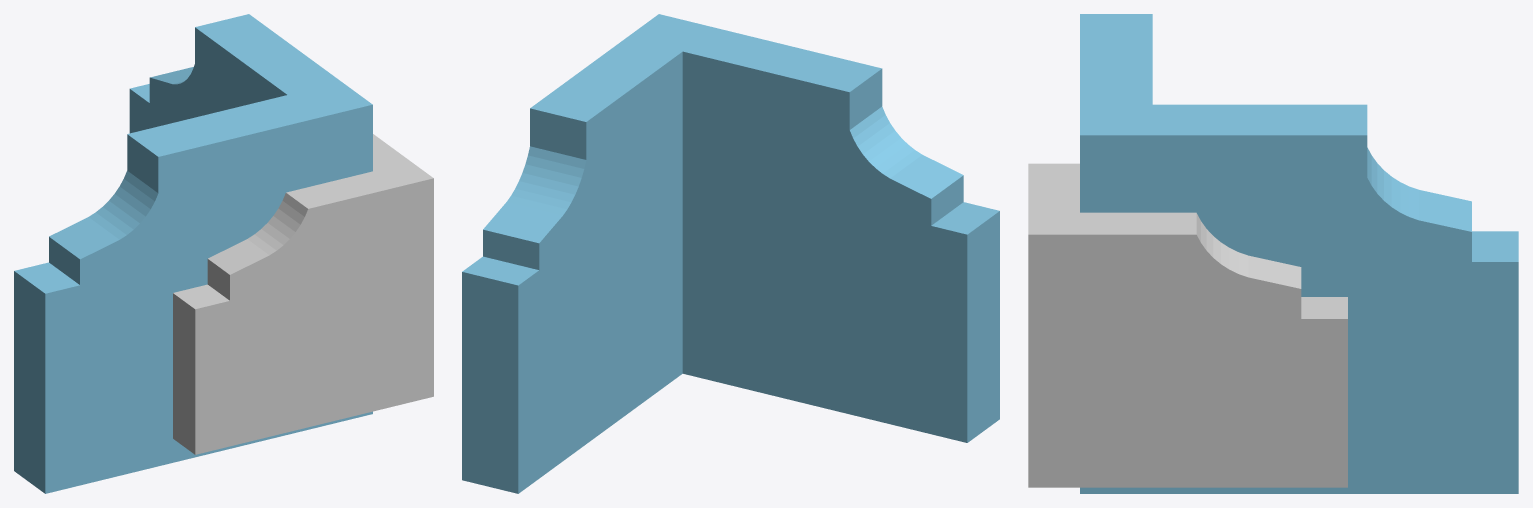
File: Prop_Building_Eastern_Ornamental_Block_Corner_04.FBX
The picture shows the model from 3 angles, left to right: view 1: azimuth 30°, elevation 25°; view 2: azimuth 150°, elevation 25°; view 3: azimuth 270°, elevation 25°; orthographic projection. The views are drawn at different scales.
Parts seen in each view (by area): view 1: Prop_Building_Eastern_Ornamental_Block_Corner_04; view 2: Prop_Building_Eastern_Ornamental_Block_Corner_04; view 3: Prop_Building_Eastern_Ornamental_Block_Corner_04.
Part boxes in pixels (left/top/right/bottom): Prop_Building_Eastern_Ornamental_Block_Corner_04: left=14, top=14, right=433, bottom=493; Prop_Building_Eastern_Ornamental_Block_Corner_04: left=462, top=14, right=999, bottom=493; Prop_Building_Eastern_Ornamental_Block_Corner_04: left=1028, top=14, right=1518, bottom=493.
Bounding box in the file's own units: 1384 × 1117 × 1384.
